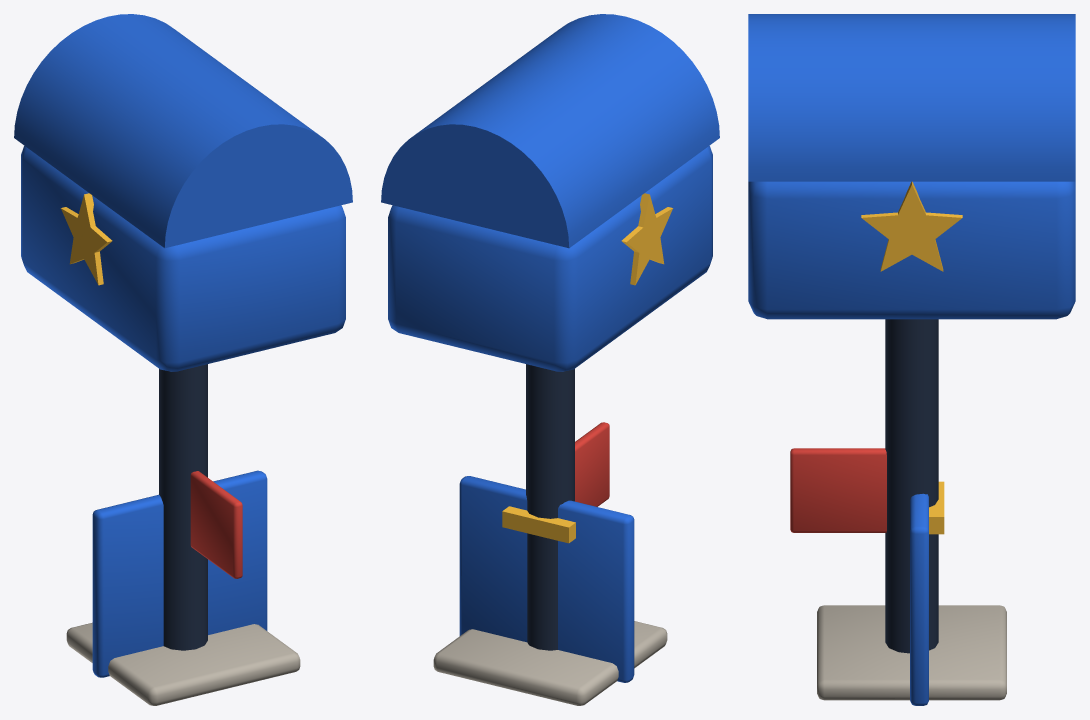
File: briefkasten.glb
3 views of the same model, side by side, from view 1: azimuth 30°, elevation 25°; view 2: azimuth 150°, elevation 25°; view 3: azimuth 270°, elevation 25° (orthographic). The views are drawn at different scales.
Parts seen in each view (by area): view 1: briefkasten_lod0, Flap, Flag; view 2: briefkasten_lod0, Flap, Flag; view 3: briefkasten_lod0, Flag, Flap.
Part boxes in pixels (<box>): briefkasten_lod0: <box>14,14,352,705</box>; Flap: <box>92,470,267,677</box>; Flag: <box>190,471,242,578</box>; briefkasten_lod0: <box>381,14,719,705</box>; Flap: <box>459,476,634,682</box>; Flag: <box>575,422,609,506</box>; briefkasten_lod0: <box>748,14,1075,700</box>; Flag: <box>790,448,886,532</box>; Flap: <box>910,481,944,705</box>.
Size of what is drawn, in the model's own units: 0.655 by 1.85 by 0.86.
